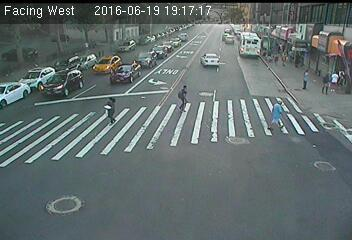neg: (75, 70, 97, 99), (223, 38, 238, 58), (181, 50, 194, 66), (147, 60, 158, 75), (113, 59, 118, 66)
pos: (264, 97, 289, 131), (171, 80, 194, 110), (101, 96, 123, 125), (314, 67, 335, 94), (295, 66, 314, 90), (333, 63, 349, 84), (277, 49, 291, 66), (328, 68, 341, 85)
